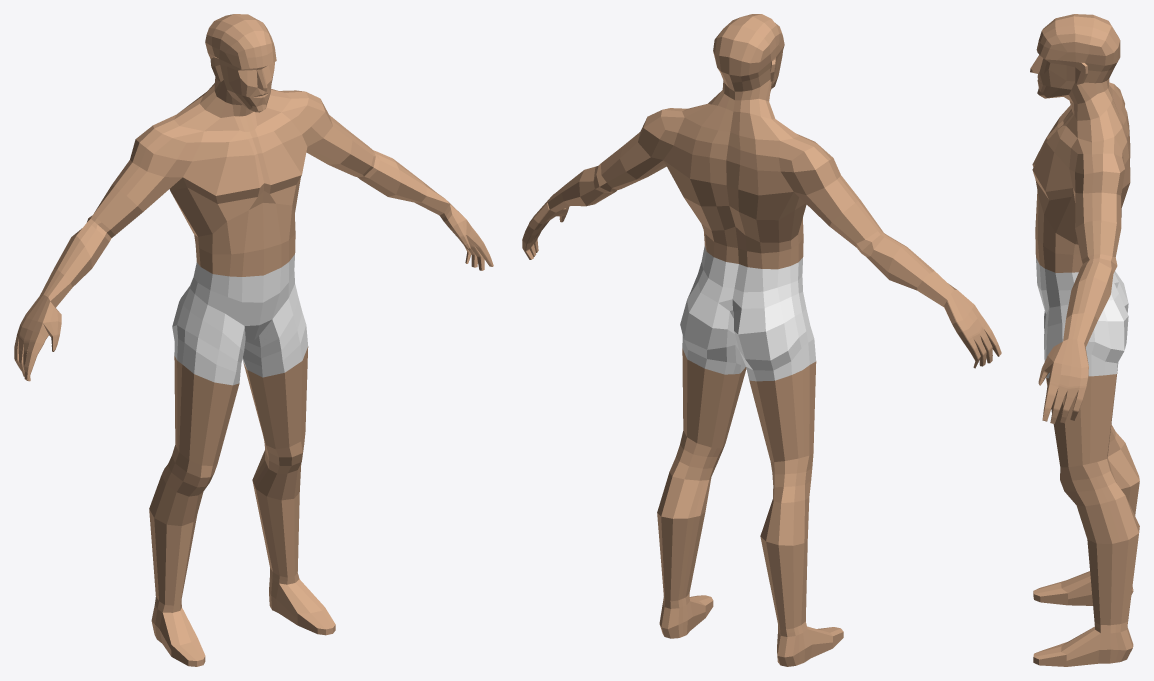
The model's file is BASE MASH - LOW POLY Male .fbx.
The picture shows the model from 3 angles, left to right: view 1: azimuth 30°, elevation 25°; view 2: azimuth 150°, elevation 25°; view 3: azimuth 270°, elevation 25°; orthographic projection.
Parts seen in each view (by area): view 1: Base H; view 2: Base H; view 3: Base H.
Part boxes in pixels (x1,y1,x2,y2): Base H: [14, 14, 493, 666]; Base H: [522, 14, 1001, 666]; Base H: [1030, 14, 1139, 666].
Bounding box in the file's own units: 201 × 253 × 41.1.
